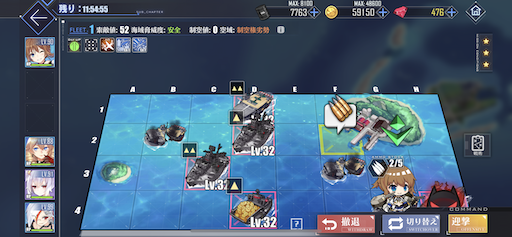boss: (419, 187, 466, 207)
lv1: (227, 176, 278, 225), (230, 110, 274, 153)
lv2: (182, 142, 230, 186), (230, 80, 272, 113)
